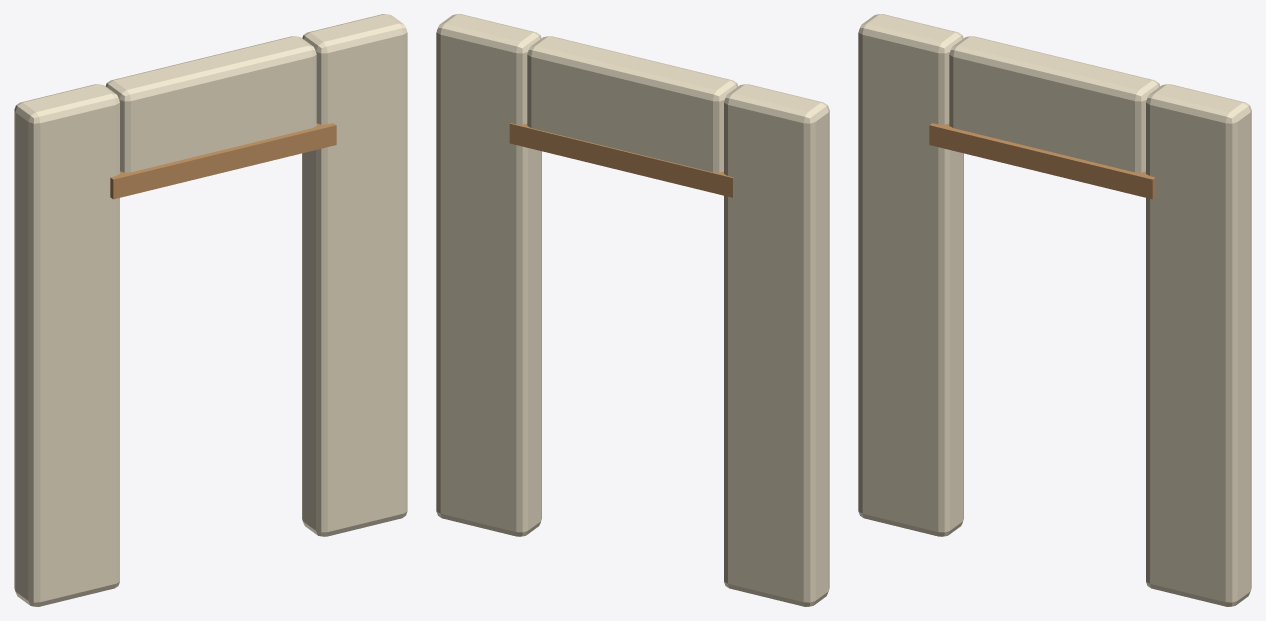
Rendered from FTF_Building_Door_2m.glb.
The picture shows the model from 3 angles, left to right: view 1: azimuth 30°, elevation 25°; view 2: azimuth 150°, elevation 25°; view 3: azimuth 330°, elevation 25°; orthographic projection.
Visible parts, largest first — view 1: SM_FTF_Building_Door_2m_Left, SM_FTF_Building_Door_2m_Right, SM_FTF_Building_Door_2m_Top, SM_FTF_Building_Door_2m_FrameTop; view 2: SM_FTF_Building_Door_2m_Left, SM_FTF_Building_Door_2m_Right, SM_FTF_Building_Door_2m_Top, SM_FTF_Building_Door_2m_FrameTop; view 3: SM_FTF_Building_Door_2m_Right, SM_FTF_Building_Door_2m_Left, SM_FTF_Building_Door_2m_Top, SM_FTF_Building_Door_2m_FrameTop.
Boxes of the visible parts, x1,y1,x2,y2 form: SM_FTF_Building_Door_2m_Left: [14, 84, 119, 606]; SM_FTF_Building_Door_2m_Right: [302, 14, 407, 536]; SM_FTF_Building_Door_2m_Top: [105, 36, 316, 172]; SM_FTF_Building_Door_2m_FrameTop: [110, 123, 336, 199]; SM_FTF_Building_Door_2m_Left: [724, 84, 829, 606]; SM_FTF_Building_Door_2m_Right: [436, 14, 541, 536]; SM_FTF_Building_Door_2m_Top: [527, 36, 738, 172]; SM_FTF_Building_Door_2m_FrameTop: [509, 123, 733, 197]; SM_FTF_Building_Door_2m_Right: [1146, 84, 1251, 606]; SM_FTF_Building_Door_2m_Left: [858, 14, 963, 536]; SM_FTF_Building_Door_2m_Top: [949, 36, 1160, 172]; SM_FTF_Building_Door_2m_FrameTop: [929, 123, 1155, 199].
Size of the model in its own units: 2 by 2.5 by 0.235.
